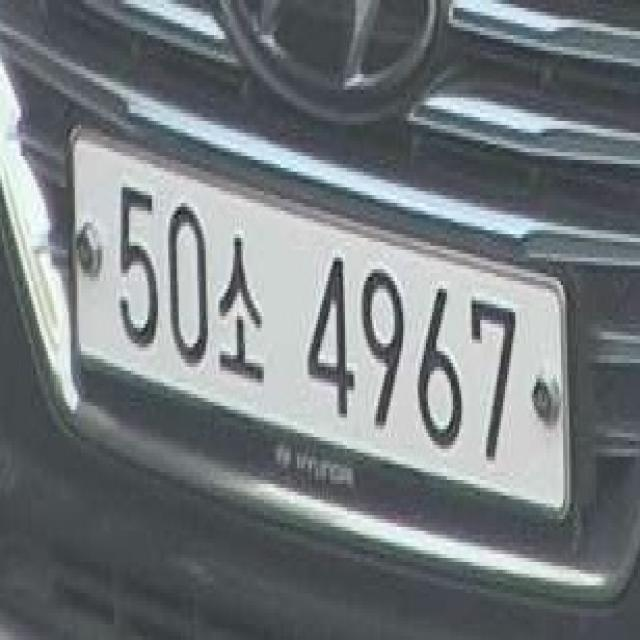0: (166, 192, 212, 388)
4: (301, 238, 357, 450)
5: (114, 164, 160, 364)
6: (412, 279, 464, 467)
7: (468, 291, 520, 479)
9: (358, 262, 408, 448)
license_plate: (57, 103, 593, 573)
so: (214, 226, 266, 399)
